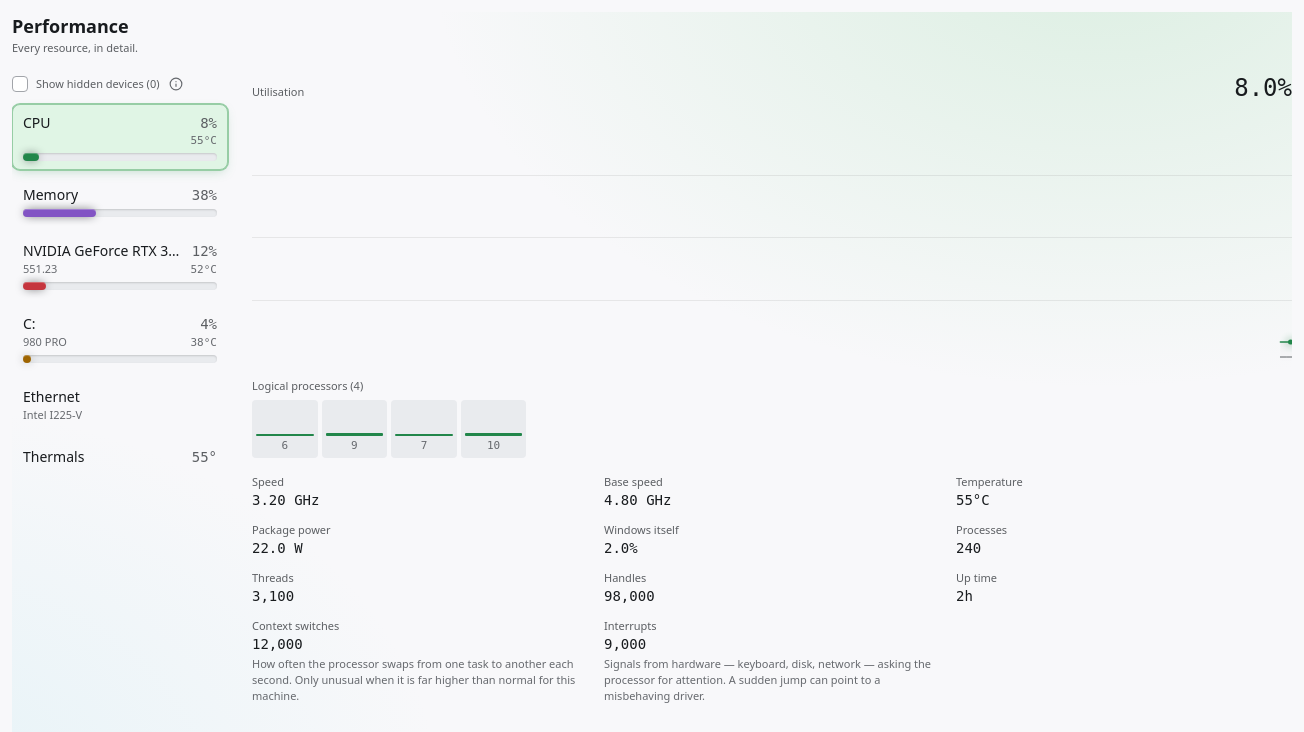
Test: PerformanceScreen › offers thermals a copy-summary menu but no Hide either
Right-click the button "Thermals 55°" at [120, 457], box [12,438,228,476]
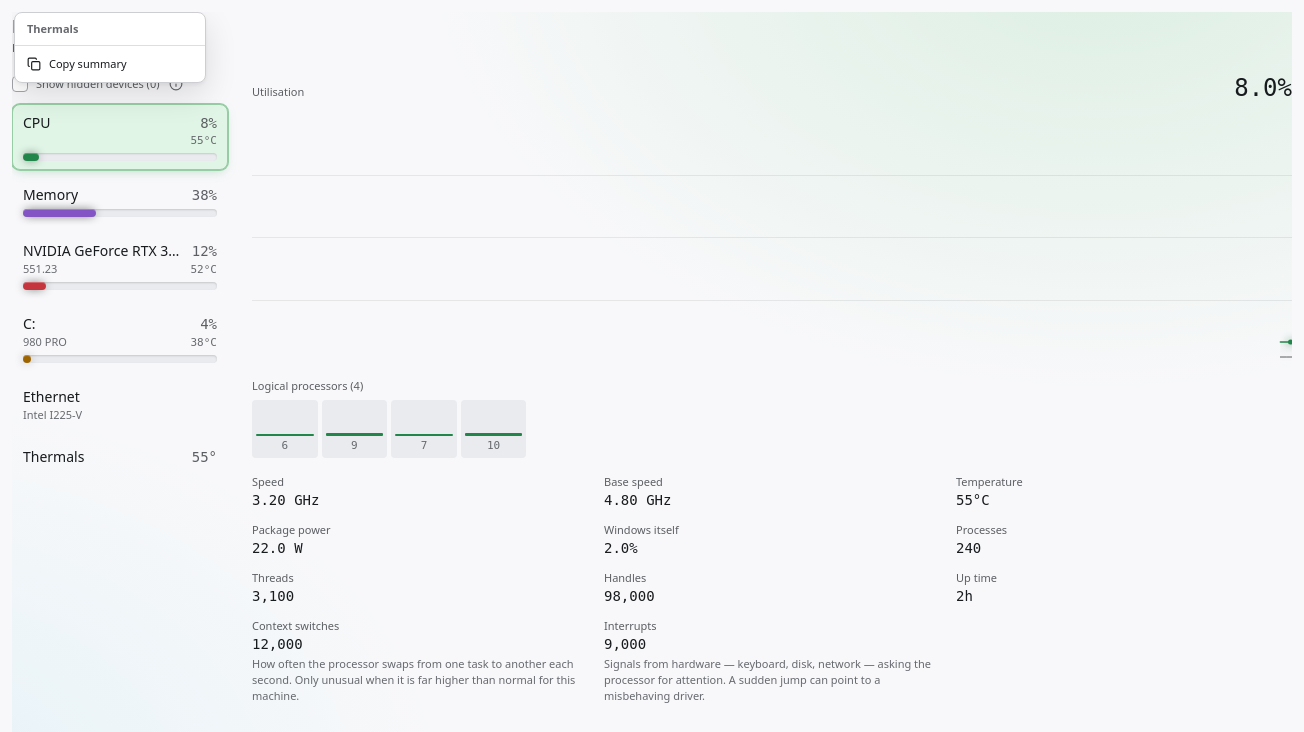
Now the menu item "Copy summary" is shown, box [27,56,127,71]
